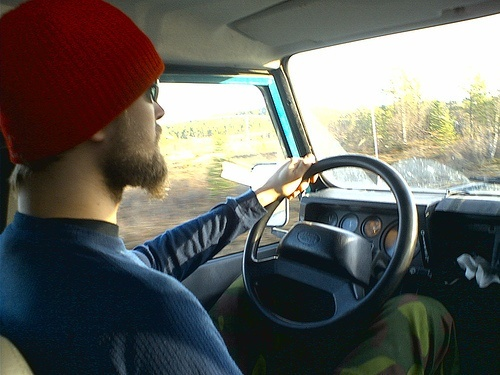head: (1, 1, 170, 194)
person: (1, 1, 457, 372)
